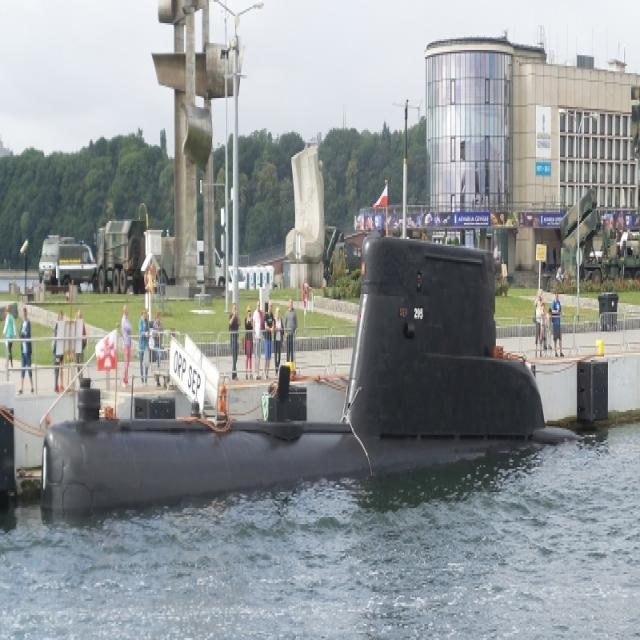submarine: (40, 235, 615, 518)
